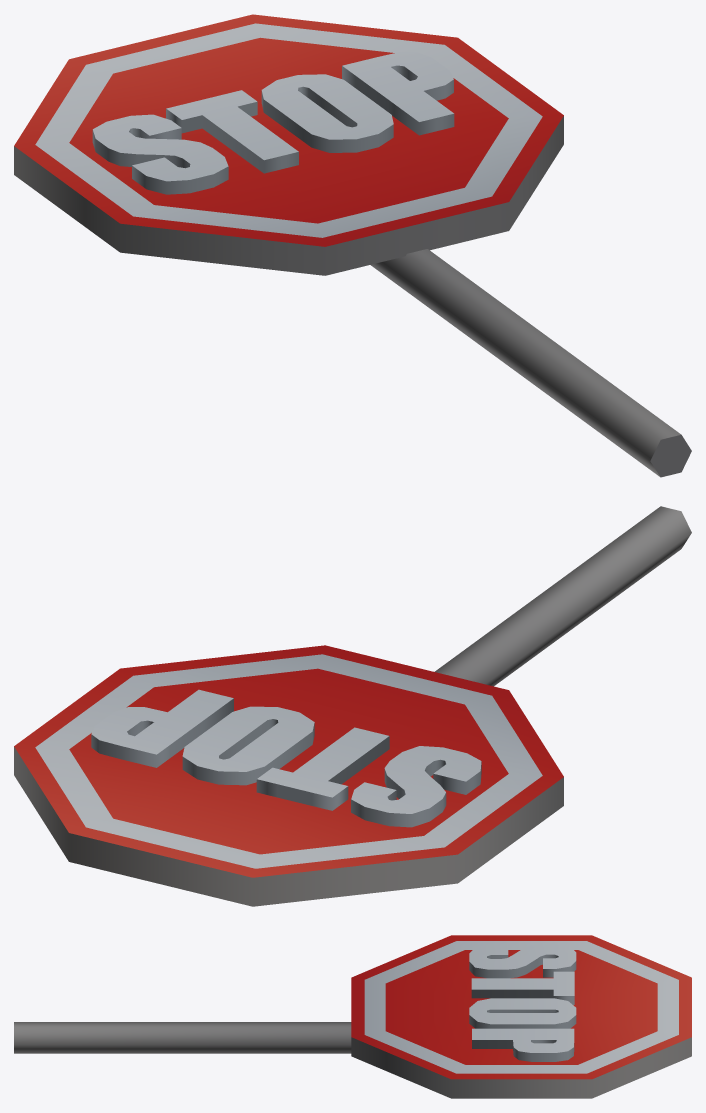
The model's file is Melee_StopSign.fbx.
3 renders of one model, top to bottom at view 1: azimuth 30°, elevation 25°; view 2: azimuth 150°, elevation 25°; view 3: azimuth 270°, elevation 25°, orthographic. The views are drawn at different scales.
Visible parts, largest first — view 1: Melee_StopSign; view 2: Melee_StopSign; view 3: Melee_StopSign.
Boxes of the visible parts, <box> form: Melee_StopSign: <box>14,14,691,477</box>; Melee_StopSign: <box>14,506,691,906</box>; Melee_StopSign: <box>14,935,691,1098</box>.
Size of the model in its own units: 0.6592 by 0.1208 by 1.31.
